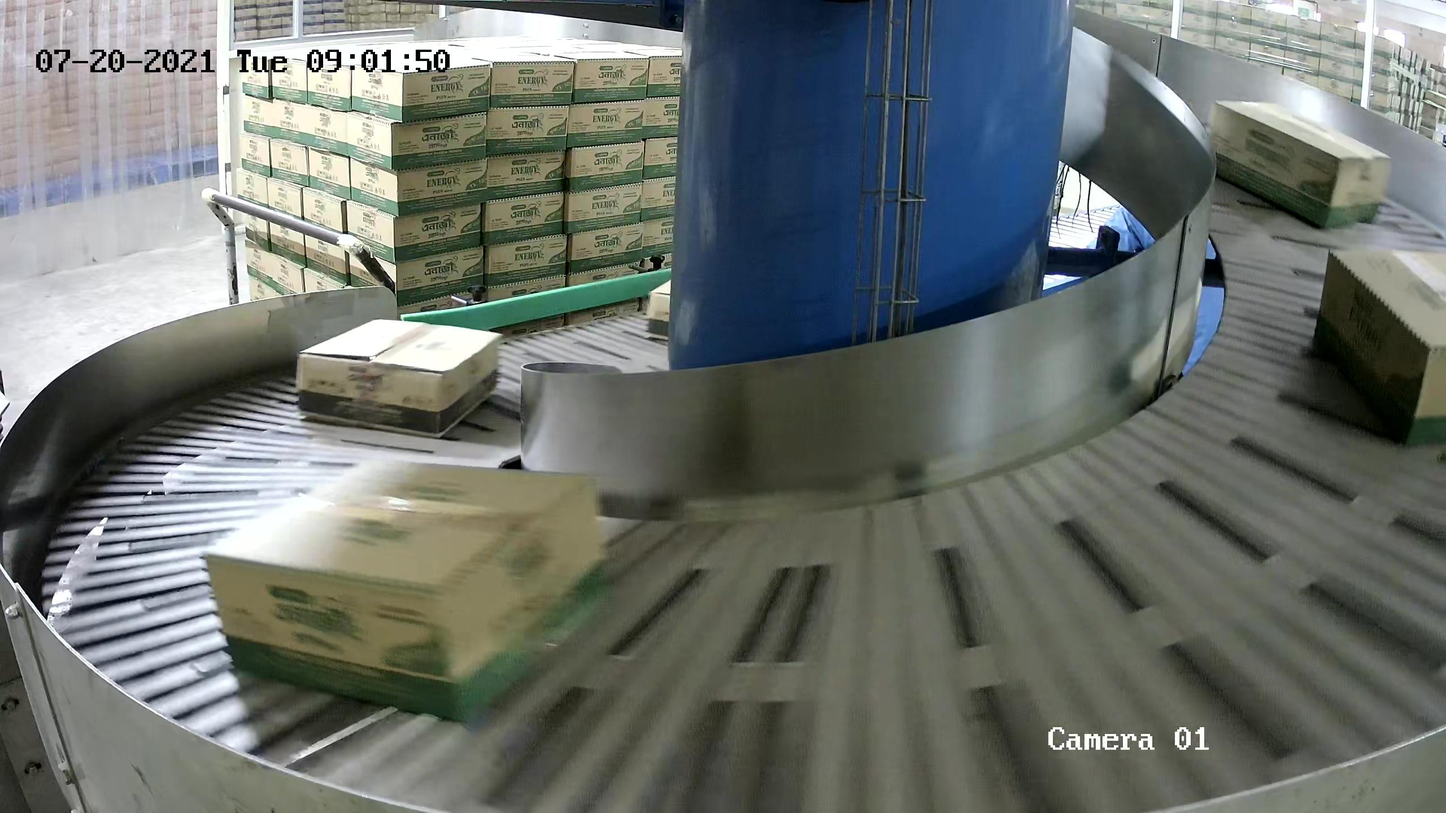Box: (202, 456, 616, 724), (1313, 246, 1446, 448), (295, 319, 502, 440), (1204, 100, 1393, 230)
